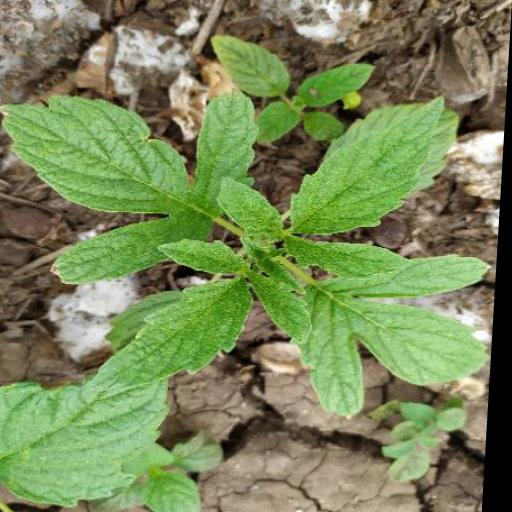crop: (0, 80, 507, 413)
